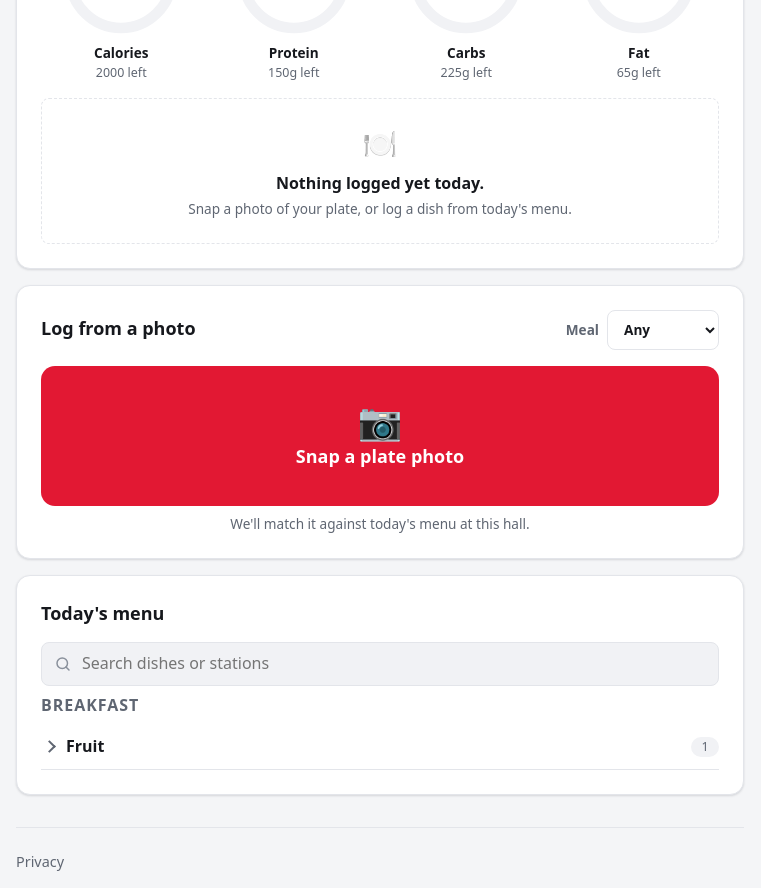
Test: App › has a privacy section in the footer with this device's code
(page scrolled)
Click the heading "Privacy" at (40, 861), box [16, 852, 64, 870]
(page scrolled)
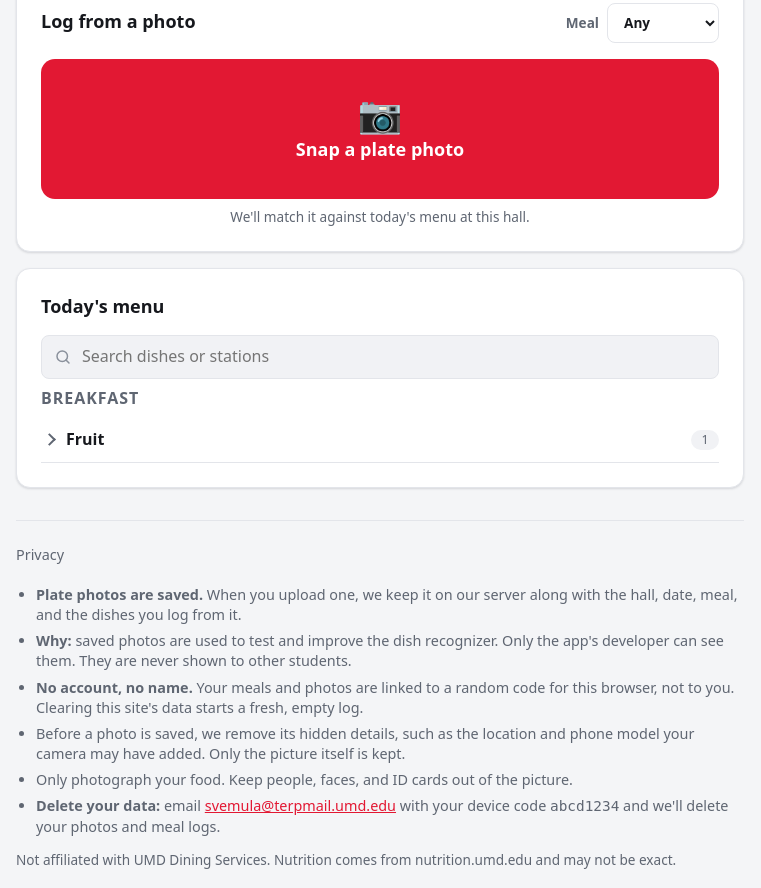
Check: the list item "only the app's developer can see them" is shown, box [36, 631, 724, 670]
Check: the text "abcd1234" is shown, box [550, 798, 619, 814]
